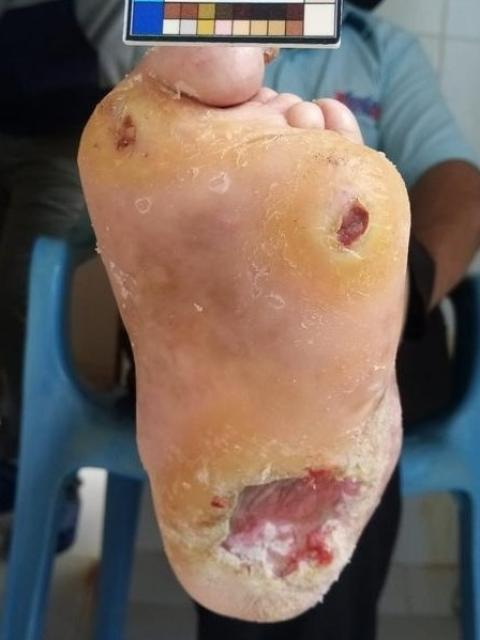wound: (210, 466, 372, 581), (333, 195, 371, 252), (112, 114, 138, 153)
